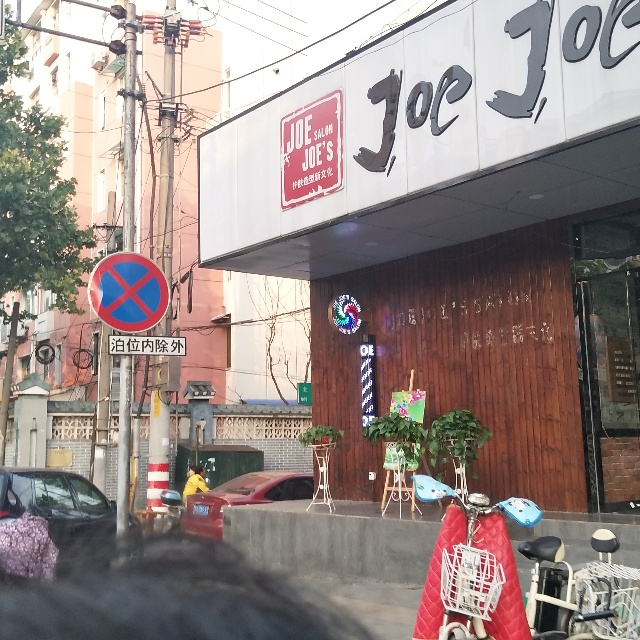stop: (90, 256, 167, 330)
